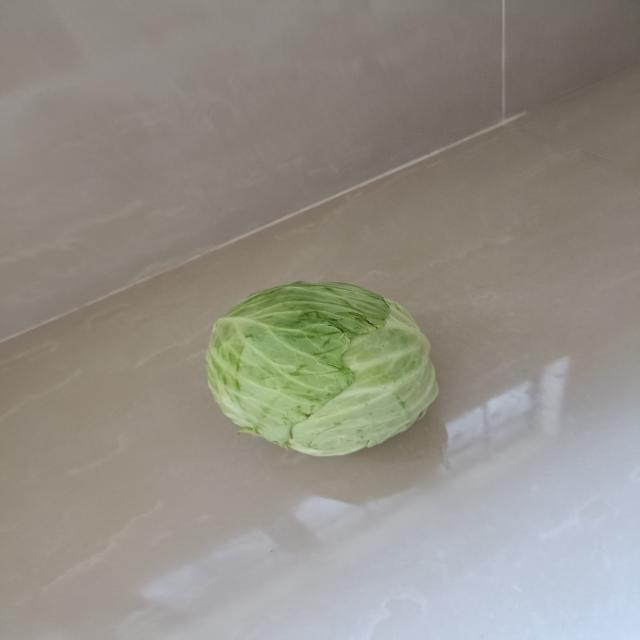cabbage: (206, 282, 436, 456)
